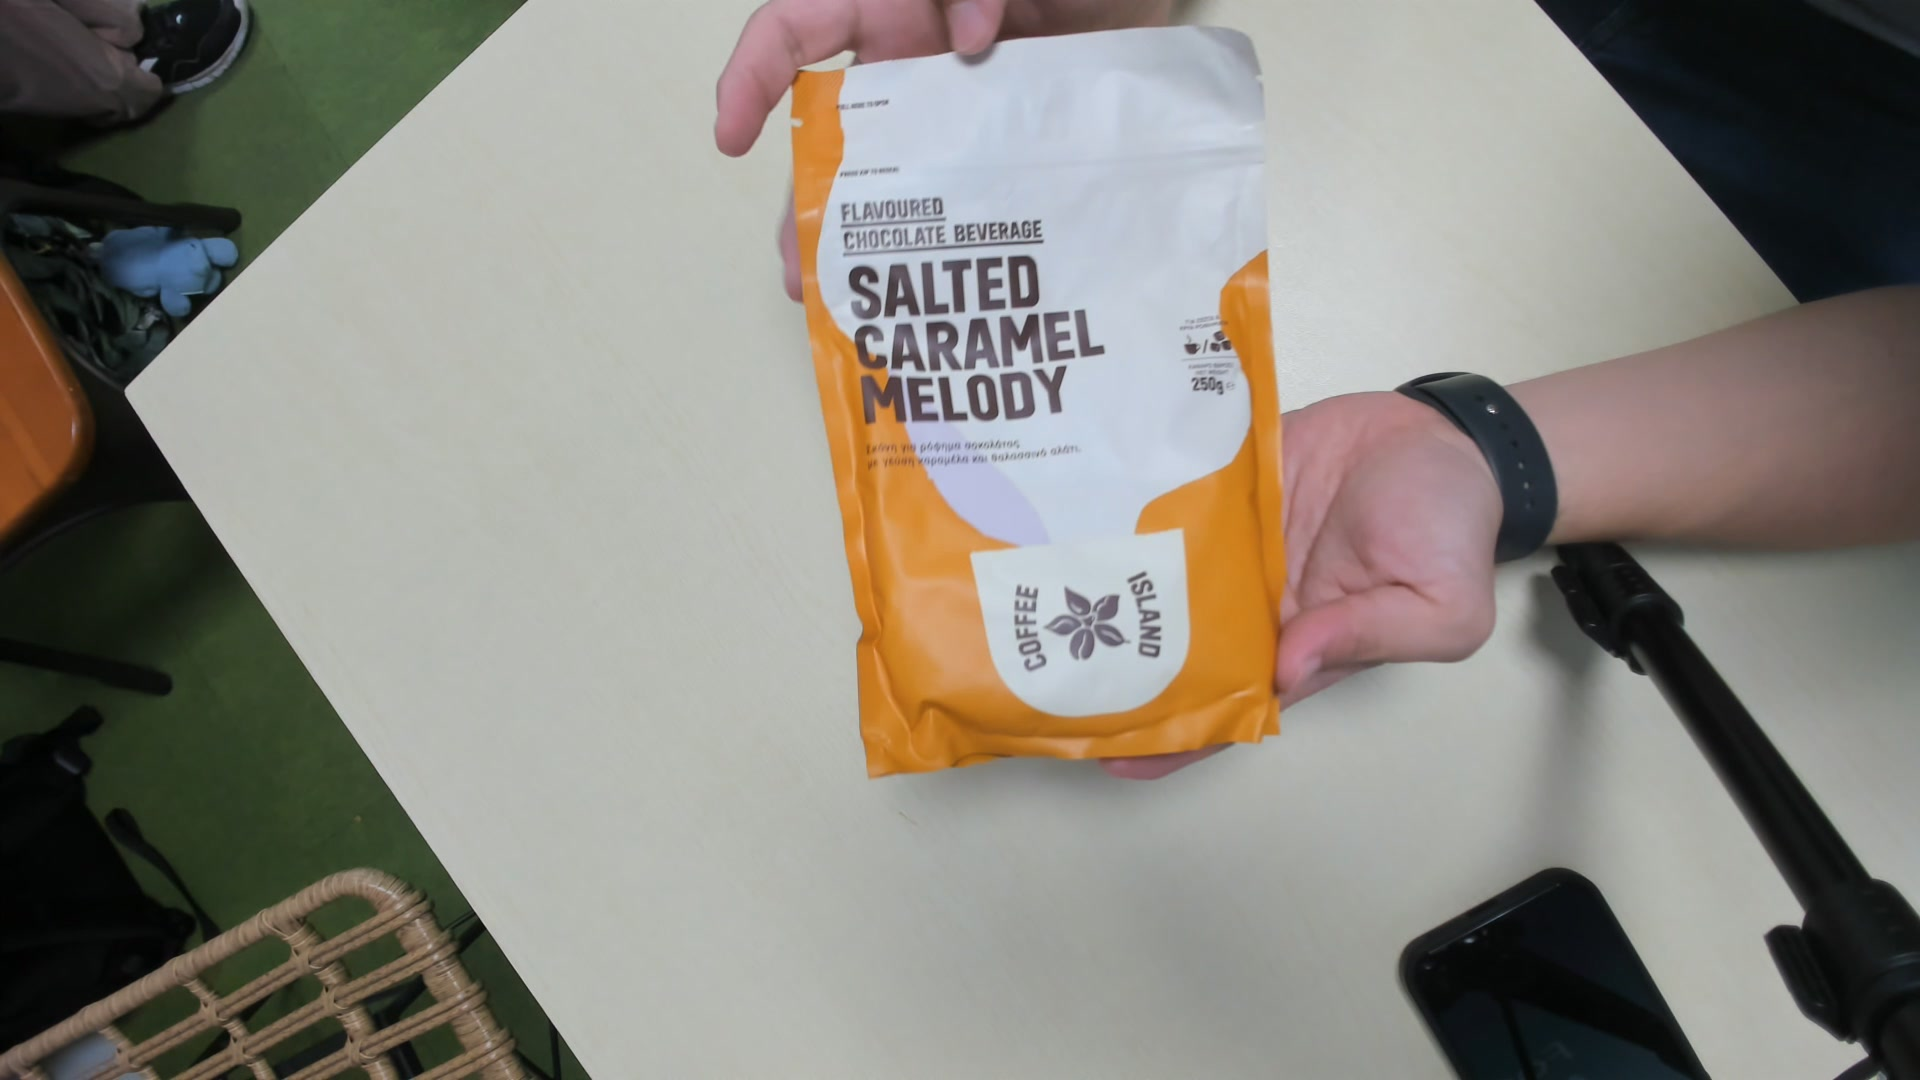Coffee_200-299g_NonHalal_NonHealthy: (787, 40, 1287, 756)
